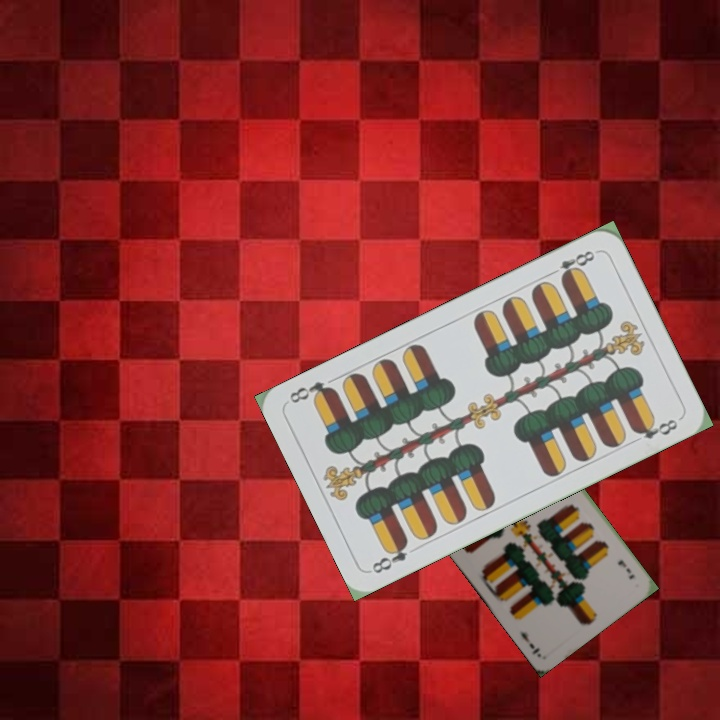E7: (613, 556, 637, 582)
E8: (544, 246, 598, 283), (368, 536, 411, 576)
